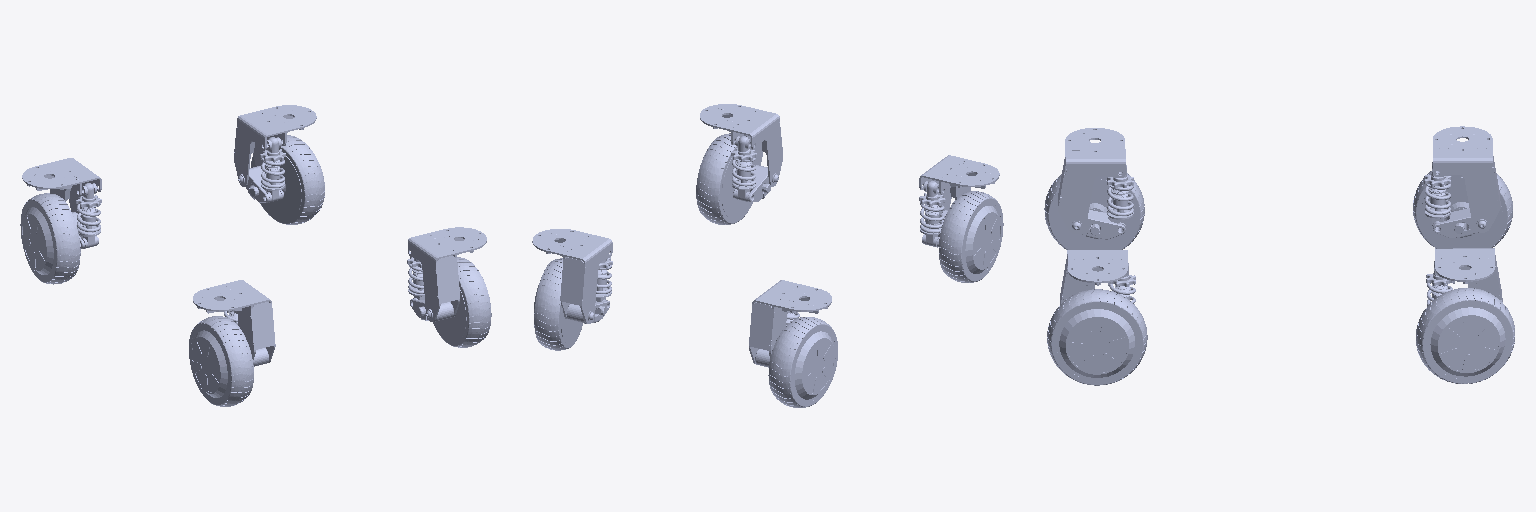
The robot description file, URDF, robot "aws_amr_description":
<?xml version="1.0" encoding="utf-8"?>
<!-- This URDF was automatically created by SolidWorks to URDF Exporter! Originally created by [author] ([email redacted]) 
     Commit Version: 1.6.0-4-g7f85cfe  Build Version: 1.6.7995.38578
     For more information, please see http://wiki.ros.org/sw_urdf_exporter -->
<robot
  name="aws_amr_description">
  <link
    name="basefootprint_link">
    <inertial>
      <origin
        xyz="0 1.11022302462516E-16 -0.0165"
        rpy="0 0 0" />
      <mass
        value="40.12833" />
      <inertia
        ixx="2.41961604813898"
        ixy="0.00979349757253783"
        ixz="-3.46348297131225E-19"
        iyy="1.29747784781603"
        iyz="2.94246210047988E-16"
        izz="3.70981060406001" />
    </inertial>
    <visual>
      <origin
        xyz="0 0 0"
        rpy="0 0 0" />
      <geometry>
        <mesh
          filename="package://aws_amr_description/meshes/basefootprint_link.STL" />
      </geometry>
      <material
        name="">
        <color
          rgba="0.988235294117647 0.984313725490196 1 1" />
      </material>
    </visual>
    <collision>
      <origin
        xyz="0 0 0"
        rpy="0 0 0" />
      <geometry>
        <mesh
          filename="package://aws_amr_description/meshes/basefootprint_link.STL" />
      </geometry>
    </collision>
  </link>
  <link
    name="base_link">
    <inertial>
      <origin
        xyz="-0.00164219166089963 -0.0361894519725366 0.582086232959336"
        rpy="0 0 0" />
      <mass
        value="38.5841907210089" />
      <inertia
        ixx="1.94197264059665"
        ixy="0.00713596425149988"
        ixz="-0.000642438598698677"
        iyy="1.12447543859211"
        iyz="0.0721839356855261"
        izz="2.71974540999521" />
    </inertial>
    <visual>
      <origin
        xyz="0 0 0"
        rpy="0 0 0" />
      <geometry>
        <mesh
          filename="package://aws_amr_description/meshes/base_link.STL" />
      </geometry>
      <material
        name="">
        <color
          rgba="0.792156862745098 0.819607843137255 0.933333333333333 1" />
      </material>
    </visual>
    <collision>
      <origin
        xyz="0 0 0"
        rpy="0 0 0" />
      <geometry>
        <mesh
          filename="package://aws_amr_description/meshes/base_link.STL" />
      </geometry>
    </collision>
  </link>
  <joint
    name="base_joint"
    type="fixed">
    <origin
      xyz="0.000899965730756125 0 0.0898937183015765"
      rpy="0 0 0" />
    <parent
      link="basefootprint_link" />
    <child
      link="base_link" />
    <axis
      xyz="0 0 0" />
  </joint>
  <link
    name="FL_steering_link">
    <inertial>
      <origin
        xyz="-0.0475735313962515 0.00186107687732506 -0.0677613689716041"
        rpy="0 0 0" />
      <mass
        value="0.215025529188031" />
      <inertia
        ixx="0.000198183542170155"
        ixy="-1.33497937261361E-05"
        ixz="-3.32629600070803E-05"
        iyy="0.00019959509116102"
        iyz="-2.846870528717E-05"
        izz="0.000169543009769995" />
    </inertial>
    <visual>
      <origin
        xyz="0 0 0"
        rpy="0 0 0" />
      <geometry>
        <mesh
          filename="package://aws_amr_description/meshes/FL_steering_link.STL" />
      </geometry>
      <material
        name="">
        <color
          rgba="0.792156862745098 0.819607843137255 0.933333333333333 1" />
      </material>
    </visual>
    <collision>
      <origin
        xyz="0 0 0"
        rpy="0 0 0" />
      <geometry>
        <mesh
          filename="package://aws_amr_description/meshes/FL_steering_link.STL" />
      </geometry>
    </collision>
  </link>
  <joint
    name="FL_steering_joint"
    type="continuous">
    <origin
      xyz="0.241621591099171 -0.287902443050945 0.1095"
      rpy="0 0 0" />
    <parent
      link="base_link" />
    <child
      link="FL_steering_link" />
    <axis
      xyz="0 0 1" />
  </joint>
  <link
    name="FL_wheel">
    <inertial>
      <origin
        xyz="-6.33164459196145E-07 7.24319215598956E-06 0.0298545011765308"
        rpy="0 0 0" />
      <mass
        value="0.958024018560995" />
      <inertia
        ixx="0.00158537287142924"
        ixy="-2.95846442369442E-09"
        ixz="-3.34102631098615E-08"
        iyy="0.00158540670170445"
        iyz="3.81832211653294E-07"
        izz="0.00270273979063561" />
    </inertial>
    <visual>
      <origin
        xyz="0 0 0"
        rpy="0 0 0" />
      <geometry>
        <mesh
          filename="package://aws_amr_description/meshes/FL_wheel.STL" />
      </geometry>
      <material
        name="">
        <color
          rgba="0.792156862745098 0.819607843137255 0.933333333333333 1" />
      </material>
    </visual>
    <collision>
      <origin
        xyz="0 0 0"
        rpy="0 0 0" />
      <geometry>
        <mesh
          filename="package://aws_amr_description/meshes/FL_wheel.STL" />
      </geometry>
    </collision>
  </link>
  <joint
    name="FL_wheel_joint"
    type="continuous">
    <origin
      xyz="-0.0305911790614908 -0.00114332801035 -0.120198042415907"
      rpy="-1.5707963267949 0 -1.56206968053491" />
    <parent
      link="FL_steering_link" />
    <child
      link="FL_wheel" />
    <axis
      xyz="0 0 1" />
  </joint>
  <link
    name="FR_steering_link">
    <inertial>
      <origin
        xyz="0.0475274478951574 0.00285182033246123 -0.0677612853324359"
        rpy="0 0 0" />
      <mass
        value="0.21502552911799" />
      <inertia
        ixx="0.000197663290712632"
        ixy="1.32880364690958E-05"
        ixz="3.38130987976626E-05"
        iyy="0.000200115479651007"
        iyz="-2.78645224586072E-05"
        izz="0.000169542872766259" />
    </inertial>
    <visual>
      <origin
        xyz="0 0 0"
        rpy="0 0 0" />
      <geometry>
        <mesh
          filename="package://aws_amr_description/meshes/FR_steering_link.STL" />
      </geometry>
      <material
        name="">
        <color
          rgba="0.792156862745098 0.819607843137255 0.933333333333333 1" />
      </material>
    </visual>
    <collision>
      <origin
        xyz="0 0 0"
        rpy="0 0 0" />
      <geometry>
        <mesh
          filename="package://aws_amr_description/meshes/FR_steering_link.STL" />
      </geometry>
    </collision>
  </link>
  <joint
    name="FR_steering_joint"
    type="continuous">
    <origin
      xyz="-0.238360131971625 -0.292091180090165 0.1095"
      rpy="0 0 0" />
    <parent
      link="base_link" />
    <child
      link="FR_steering_link" />
    <axis
      xyz="0 0 1" />
  </joint>
  <link
    name="FR_wheel">
    <inertial>
      <origin
        xyz="5.20650804314293E-06 -5.07658490336849E-06 -0.0298545023400815"
        rpy="0 0 0" />
      <mass
        value="0.958024049096675" />
      <inertia
        ixx="0.00158539024593013"
        ixy="-1.71905301382618E-08"
        ixz="-2.74449388424433E-07"
        iyy="0.00158538938818371"
        iyz="2.67521391906746E-07"
        izz="0.00270273993089456" />
    </inertial>
    <visual>
      <origin
        xyz="0 0 0"
        rpy="0 0 0" />
      <geometry>
        <mesh
          filename="package://aws_amr_description/meshes/FR_wheel.STL" />
      </geometry>
      <material
        name="">
        <color
          rgba="0.792156862745098 0.819607843137255 0.933333333333333 1" />
      </material>
    </visual>
    <collision>
      <origin
        xyz="0 0 0"
        rpy="0 0 0" />
      <geometry>
        <mesh
          filename="package://aws_amr_description/meshes/FR_wheel.STL" />
      </geometry>
    </collision>
  </link>
  <joint
    name="FR_wheel_joint"
    type="continuous">
    <origin
      xyz="0.0306076729379445 -0.000545703798077279 -0.120198042415904"
      rpy="-1.57079632679489 0 -1.55999302446283" />
    <parent
      link="FR_steering_link" />
    <child
      link="FR_wheel" />
    <axis
      xyz="0 0 -1" />
  </joint>
  <link
    name="RL_steering_link">
    <inertial>
      <origin
        xyz="-0.0464294552503575 -0.0105497331235309 -0.0677612873166716"
        rpy="0 0 0" />
      <mass
        value="0.215025508213933" />
      <inertia
        ixx="0.000193460203508138"
        ixy="1.21901333978236E-05"
        ixz="-3.78976325309017E-05"
        iyy="0.000204318564874202"
        iyz="2.19892428029692E-05"
        izz="0.000169542871278703" />
    </inertial>
    <visual>
      <origin
        xyz="0 0 0"
        rpy="0 0 0" />
      <geometry>
        <mesh
          filename="package://aws_amr_description/meshes/RL_steering_link.STL" />
      </geometry>
      <material
        name="">
        <color
          rgba="0.792156862745098 0.819607843137255 0.933333333333333 1" />
      </material>
    </visual>
    <collision>
      <origin
        xyz="0 0 0"
        rpy="0 0 0" />
      <geometry>
        <mesh
          filename="package://aws_amr_description/meshes/RL_steering_link.STL" />
      </geometry>
    </collision>
  </link>
  <joint
    name="RL_steering_joint"
    type="continuous">
    <origin
      xyz="0.236560200510107 0.292075472326287 0.109500000000001"
      rpy="0 0 0" />
    <parent
      link="base_link" />
    <child
      link="RL_steering_link" />
    <axis
      xyz="0 0 1" />
  </joint>
  <link
    name="RL_wheel">
    <inertial>
      <origin
        xyz="7.27595754390631E-06 -5.91239966013513E-08 0.029854497682601"
        rpy="0 0 0" />
      <mass
        value="0.95802404699446" />
      <inertia
        ixx="0.00158540688618798"
        ixy="-1.99483853621513E-10"
        ixz="3.83119294653975E-07"
        iyy="0.00158537275280386"
        iyz="-3.17710383360308E-09"
        izz="0.00270274001401906" />
    </inertial>
    <visual>
      <origin
        xyz="0 0 0"
        rpy="0 0 0" />
      <geometry>
        <mesh
          filename="package://aws_amr_description/meshes/RL_wheel.STL" />
      </geometry>
      <material
        name="">
        <color
          rgba="0.792156862745098 0.819607843137255 0.933333333333333 1" />
      </material>
    </visual>
    <collision>
      <origin
        xyz="0 0 0"
        rpy="0 0 0" />
      <geometry>
        <mesh
          filename="package://aws_amr_description/meshes/RL_wheel.STL" />
      </geometry>
    </collision>
  </link>
  <joint
    name="RL_wheel_joint"
    type="continuous">
    <origin
      xyz="-0.0302883236333389 -0.00444352189074265 -0.120198042415911"
      rpy="-1.5707963267949 0 -1.39649764849145" />
    <parent
      link="RL_steering_link" />
    <child
      link="RL_wheel" />
    <axis
      xyz="0 0 1" />
  </joint>
  <link
    name="RR_steering_link">
    <inertial>
      <origin
        xyz="0.0472495916245045 -0.00584638955510888 -0.0677613703800073"
        rpy="0 0 0" />
      <mass
        value="0.215025525294734" />
      <inertia
        ixx="0.000195961020339611"
        ixy="-1.30437868222828E-05"
        ixz="3.55344485257814E-05"
        iyy="0.000201817609859164"
        iyz="2.55772259404588E-05"
        izz="0.000169543008646994" />
    </inertial>
    <visual>
      <origin
        xyz="0 0 0"
        rpy="0 0 0" />
      <geometry>
        <mesh
          filename="package://aws_amr_description/meshes/RR_steering_link.STL" />
      </geometry>
      <material
        name="">
        <color
          rgba="0.792156862745098 0.819607843137255 0.933333333333333 1" />
      </material>
    </visual>
    <collision>
      <origin
        xyz="0 0 0"
        rpy="0 0 0" />
      <geometry>
        <mesh
          filename="package://aws_amr_description/meshes/RR_steering_link.STL" />
      </geometry>
    </collision>
  </link>
  <joint
    name="RR_steering_joint"
    type="continuous">
    <origin
      xyz="-0.24342152256069 0.287886735287059 0.109500000000002"
      rpy="0 0 0" />
    <parent
      link="base_link" />
    <child
      link="RR_steering_link" />
    <axis
      xyz="0 0 1" />
  </joint>
  <link
    name="RR_wheel">
    <inertial>
      <origin
        xyz="-7.21200724410065E-06 -9.69764137839779E-07 -0.0298544968118679"
        rpy="0 0 0" />
      <mass
        value="0.958024083703301" />
      <inertia
        ixx="0.00158540647521623"
        ixy="4.52995256026229E-09"
        ixz="3.7968612593469E-07"
        iyy="0.00158537328067226"
        iyz="5.0927528925523E-08"
        izz="0.00270274017042597" />
    </inertial>
    <visual>
      <origin
        xyz="0 0 0"
        rpy="0 0 0" />
      <geometry>
        <mesh
          filename="package://aws_amr_description/meshes/RR_wheel.STL" />
      </geometry>
      <material
        name="">
        <color
          rgba="0.792156862745098 0.819607843137255 0.933333333333333 1" />
      </material>
    </visual>
    <collision>
      <origin
        xyz="0 0 0"
        rpy="0 0 0" />
      <geometry>
        <mesh
          filename="package://aws_amr_description/meshes/RR_wheel.STL" />
      </geometry>
    </collision>
  </link>
  <joint
    name="RR_wheel_joint"
    type="continuous">
    <origin
      xyz="0.0305792315732384 -0.00142759647720375 -0.12019804241591"
      rpy="1.57079632679489 0 1.49551463375334" />
    <parent
      link="RR_steering_link" />
    <child
      link="RR_wheel" />
    <axis
      xyz="0 0 -1" />
  </joint>
</robot>

--- Facts derived from the render (not from the file) ---
Views: 3 orthographic renders of the robot side by side, from view 1: azimuth 30°, elevation 25°; view 2: azimuth 150°, elevation 25°; view 3: azimuth 270°, elevation 25°.
Robot: aws_amr_description — 10 links, 9 joints (8 continuous, 1 fixed); root link basefootprint_link; default pose: all joints at 0.
Links seen in each view (by area): view 1: FL_steering_link, RL_steering_link, FR_wheel, RR_wheel, FR_steering_link, RR_steering_link, RL_wheel, FL_wheel; view 2: RR_wheel, FL_steering_link, RL_steering_link, FR_wheel, RR_steering_link, FR_steering_link, FL_wheel, RL_wheel; view 3: FL_wheel, RL_wheel, FR_steering_link, RR_steering_link, FR_wheel, RR_wheel, RL_steering_link, FL_steering_link.
Link boxes in pixels (x1,y1,x2,y2): FL_steering_link: [407, 227, 486, 321]; RL_steering_link: [234, 105, 316, 202]; FR_wheel: [189, 316, 253, 406]; RR_wheel: [20, 193, 80, 284]; FR_steering_link: [193, 280, 275, 366]; RR_steering_link: [22, 158, 101, 248]; RL_wheel: [250, 135, 324, 224]; FL_wheel: [417, 257, 491, 347]; RR_wheel: [768, 317, 837, 407]; FL_steering_link: [700, 104, 782, 201]; RL_steering_link: [532, 229, 612, 323]; FR_wheel: [939, 191, 1003, 282]; RR_steering_link: [749, 280, 831, 367]; FR_steering_link: [919, 155, 999, 247]; FL_wheel: [696, 133, 770, 224]; RL_wheel: [534, 258, 605, 350]; FL_wheel: [1047, 289, 1147, 385]; RL_wheel: [1416, 288, 1514, 383]; FR_steering_link: [1058, 128, 1133, 239]; RR_steering_link: [1424, 126, 1500, 237]; FR_wheel: [1044, 173, 1144, 249]; RR_wheel: [1413, 171, 1512, 248]; RL_steering_link: [1426, 248, 1502, 305]; FL_steering_link: [1060, 250, 1135, 304].
Bounding box of the posed robot: 0.58 × 0.7437 × 0.1996 m (x, y, z).
8 mesh visuals loaded from 10 distinct referenced files (8 binary STL); not drawn: 2 (reference not matched to a file when rendering).